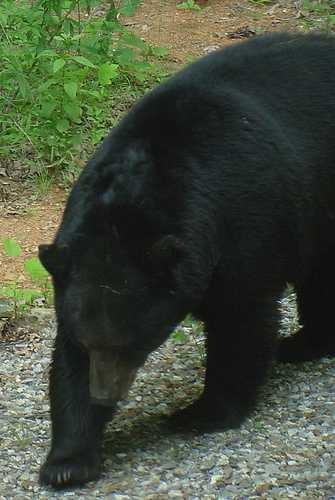bear: (48, 263, 176, 391)
